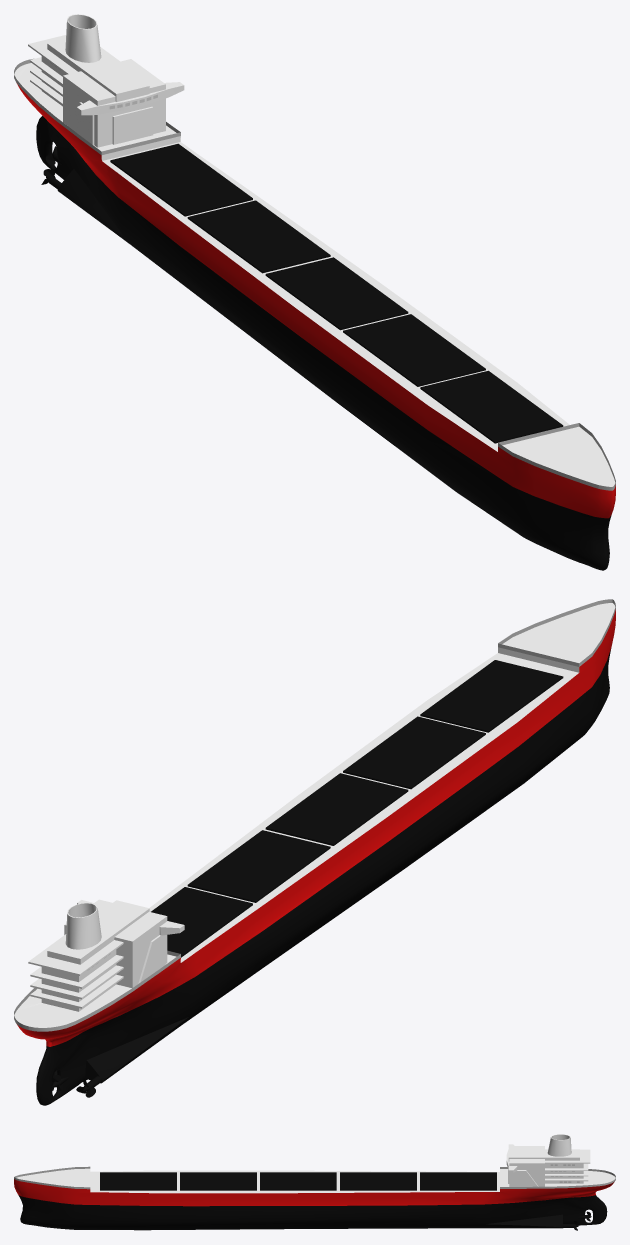
File: tanker.glb
3 views of the same model, one above another, from view 1: azimuth 30°, elevation 25°; view 2: azimuth 150°, elevation 25°; view 3: azimuth 270°, elevation 25° (orthographic). The views are drawn at different scales.
Visible parts, largest first — view 1: TANKER_BLACK, TANKER_RED, TANKER_DECK, TANKER_CABIN, TANKER_RAILINGS, TANKER_STACK; view 2: TANKER_BLACK, TANKER_RED, TANKER_DECK, TANKER_CABIN, TANKER_RAILINGS, TANKER_STACK; view 3: TANKER_BLACK, TANKER_RED, TANKER_DECK, TANKER_CABIN, TANKER_RAILINGS, TANKER_STACK.
Boxes of the visible parts, x1,y1,x2,y2 form: TANKER_BLACK: (36, 116, 611, 570); TANKER_RED: (17, 84, 615, 518); TANKER_DECK: (14, 63, 615, 486); TANKER_CABIN: (28, 35, 184, 147); TANKER_RAILINGS: (14, 58, 615, 490); TANKER_STACK: (65, 14, 101, 62); TANKER_BLACK: (36, 648, 611, 1105); TANKER_RED: (17, 609, 615, 1046); TANKER_DECK: (14, 603, 615, 1027); TANKER_CABIN: (28, 899, 184, 1011); TANKER_RAILINGS: (14, 599, 615, 1031); TANKER_STACK: (65, 902, 101, 949); TANKER_BLACK: (18, 1172, 607, 1230); TANKER_RED: (14, 1179, 614, 1206); TANKER_DECK: (16, 1168, 615, 1193); TANKER_CABIN: (506, 1144, 590, 1186); TANKER_RAILINGS: (14, 1166, 615, 1189); TANKER_STACK: (547, 1134, 571, 1156).
Size of the model in its own units: 15.23 by 24.22 by 149.
